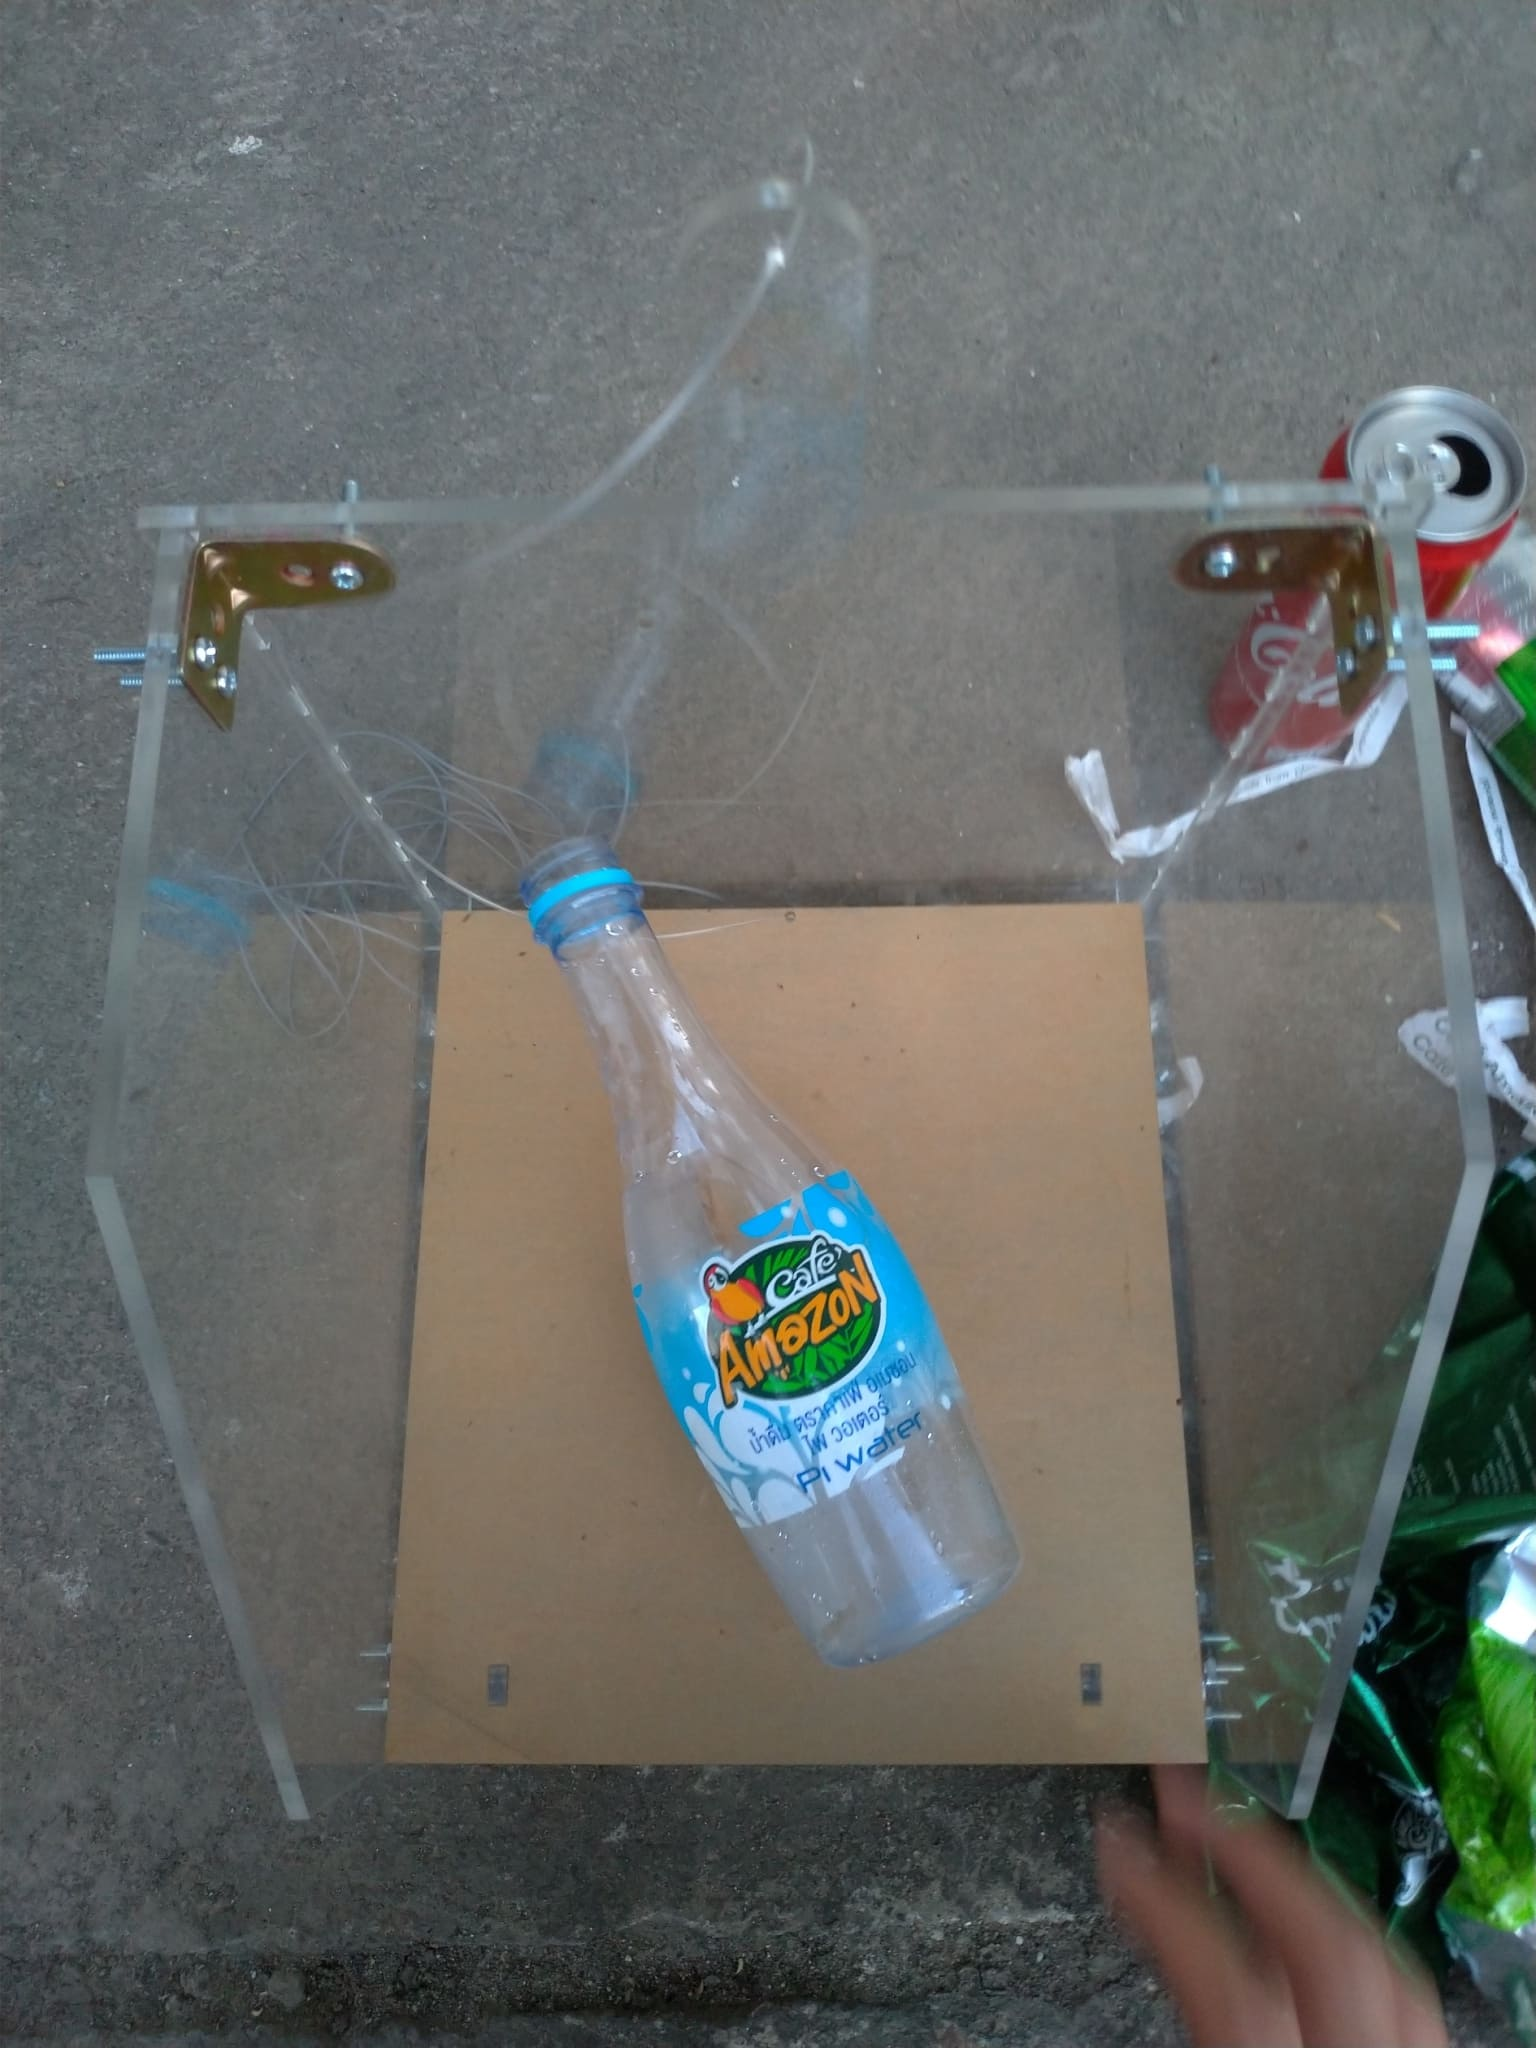AlCan: (1213, 392, 1507, 784), (1450, 539, 1536, 768)
Others: (1233, 1145, 1530, 2048), (1076, 689, 1413, 861), (1394, 727, 1536, 1122)
PlasticBottle: (529, 861, 1025, 1677)
